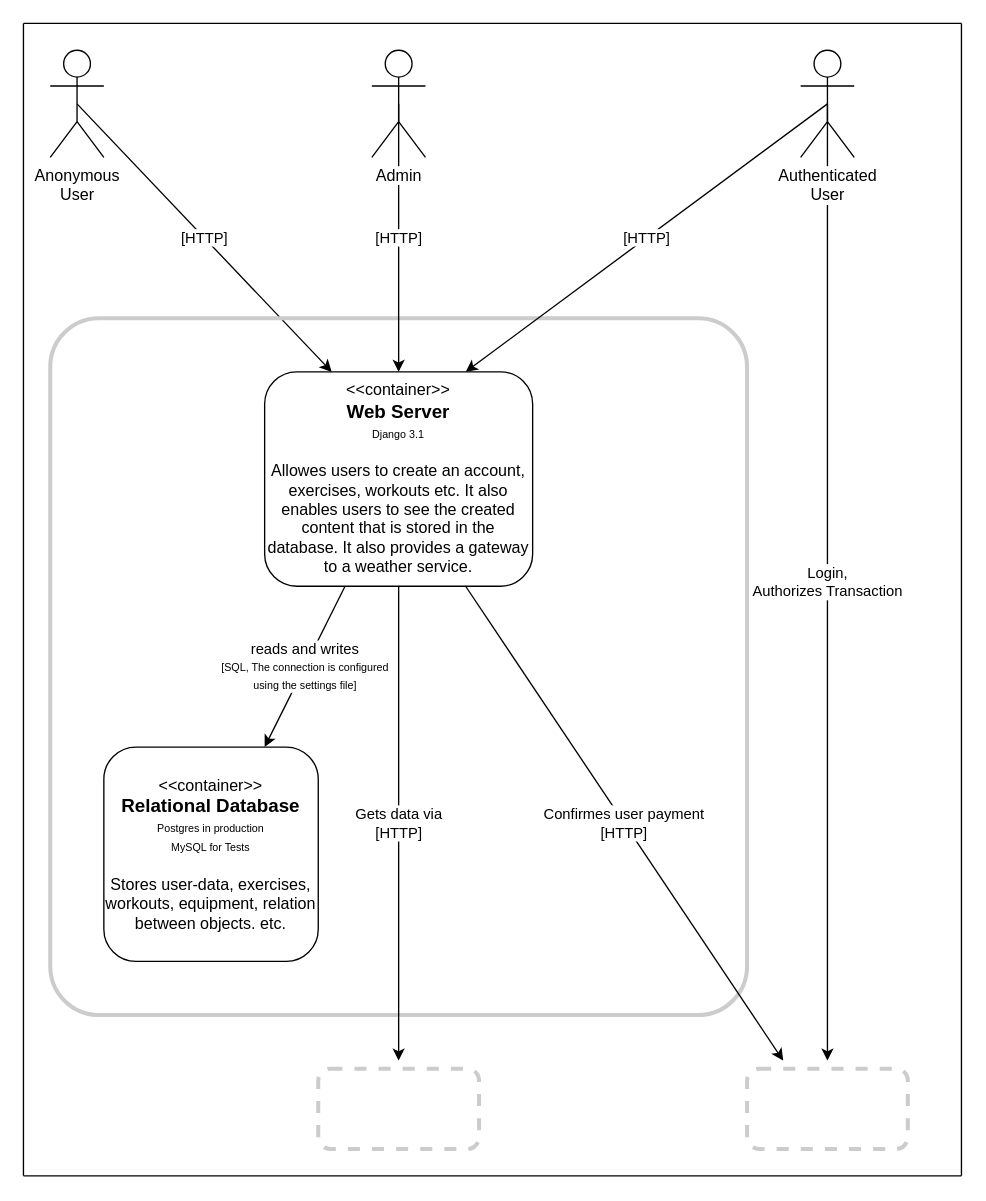
Image size: 986x1201. Some labels were removed from this diagram. Here are the shapes that lost their labels. From the top down, the centre of each, then its label:
At pixel 398 1108: "<<external system>> WeatherAPI.com".
At pixel 826 1108: "<<external system>> PayPal.com".
